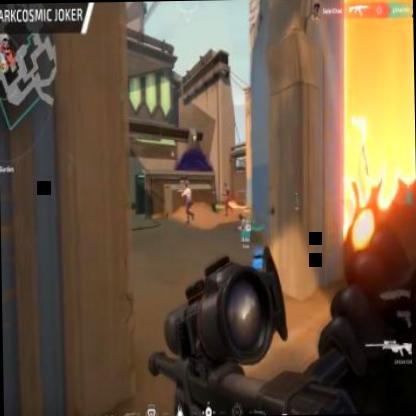enemy: (183, 178, 194, 221), (224, 180, 232, 214)
enemy_head: (184, 180, 189, 188), (223, 182, 227, 187)
